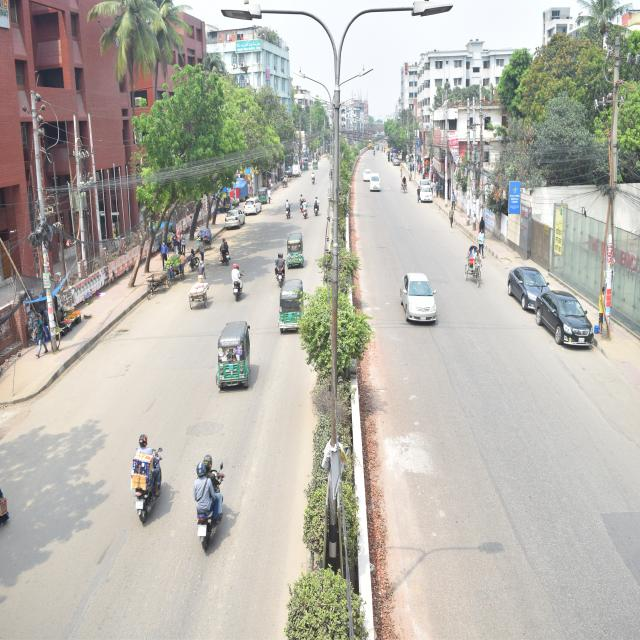car: (385, 240, 456, 356), (484, 234, 565, 328), (525, 278, 596, 366), (220, 196, 249, 238), (242, 178, 265, 227), (416, 182, 442, 212), (366, 170, 384, 202), (357, 161, 370, 187)
motorbike: (177, 453, 266, 552), (114, 419, 180, 529), (261, 243, 296, 297), (178, 230, 214, 278), (227, 260, 254, 304), (281, 190, 300, 232), (212, 227, 232, 266), (311, 183, 324, 230), (299, 194, 312, 229), (295, 182, 306, 212), (308, 164, 318, 190)
pickup-van: (288, 159, 306, 180)
